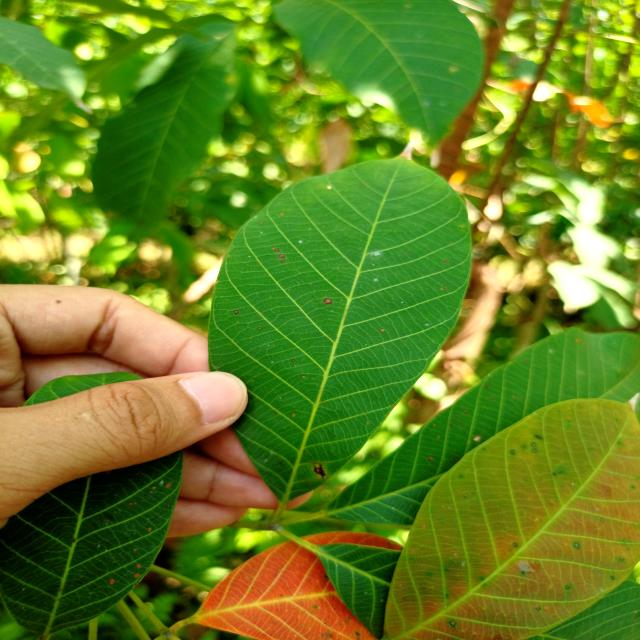Colletotrichum: (323, 298, 333, 304), (531, 448, 537, 453), (462, 409, 468, 414), (278, 254, 285, 258), (510, 450, 515, 455), (274, 248, 280, 252), (234, 310, 239, 314), (531, 442, 535, 447), (428, 456, 433, 460), (280, 259, 285, 262), (291, 359, 295, 362), (258, 327, 262, 330)
Corynespora: (312, 462, 326, 479)
